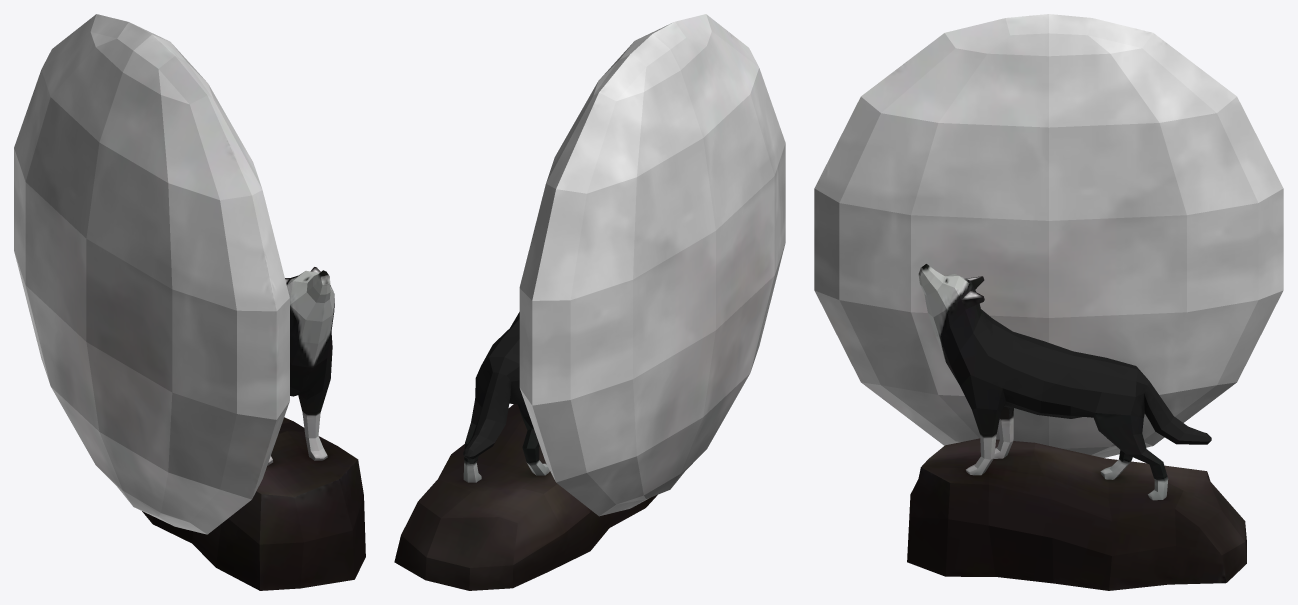
File: animals-howling-wolf-129.glb
3 views of the same model, side by side, from view 1: azimuth 30°, elevation 25°; view 2: azimuth 150°, elevation 25°; view 3: azimuth 270°, elevation 25° (orthographic). The views are drawn at different scales.
Visible parts, largest first — view 1: Node; view 2: Node; view 3: Node.
Part boxes in pixels (x1,y1,x2,y2): Node: (14,14,365,590); Node: (394,14,785,590); Node: (814,14,1283,590).
Bounding box in the file's own units: 9.01 × 17.56 × 15.24.
1 material, 1 textured.
